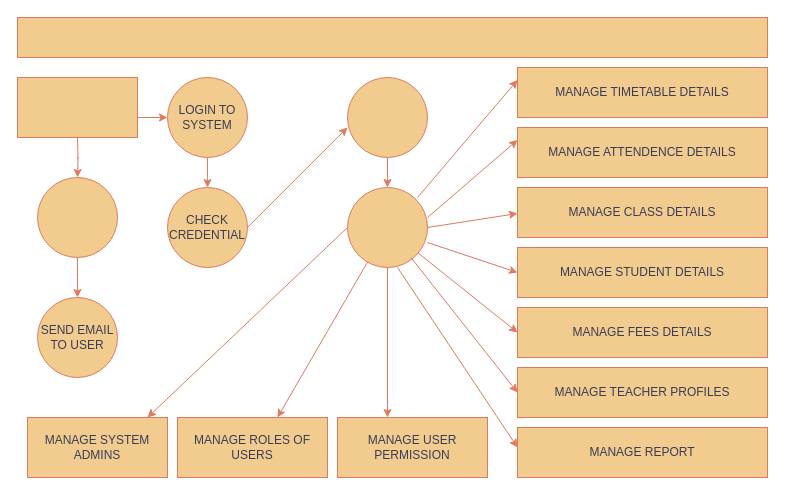
This 785x495 diagram has some shape labels left out. The shapes that lost their labels are listed below. From the top down, each one's centre as x and y in pixels, then its label:
the point at 392,37: STUDENT INFORMATION SYSTEM
the point at 77,107: ADMIN
the point at 387,117: CHECK ROLES OF ACCESS
the point at 77,217: FORGOT PASSWORD
the point at 387,227: MANAGE MODULES
